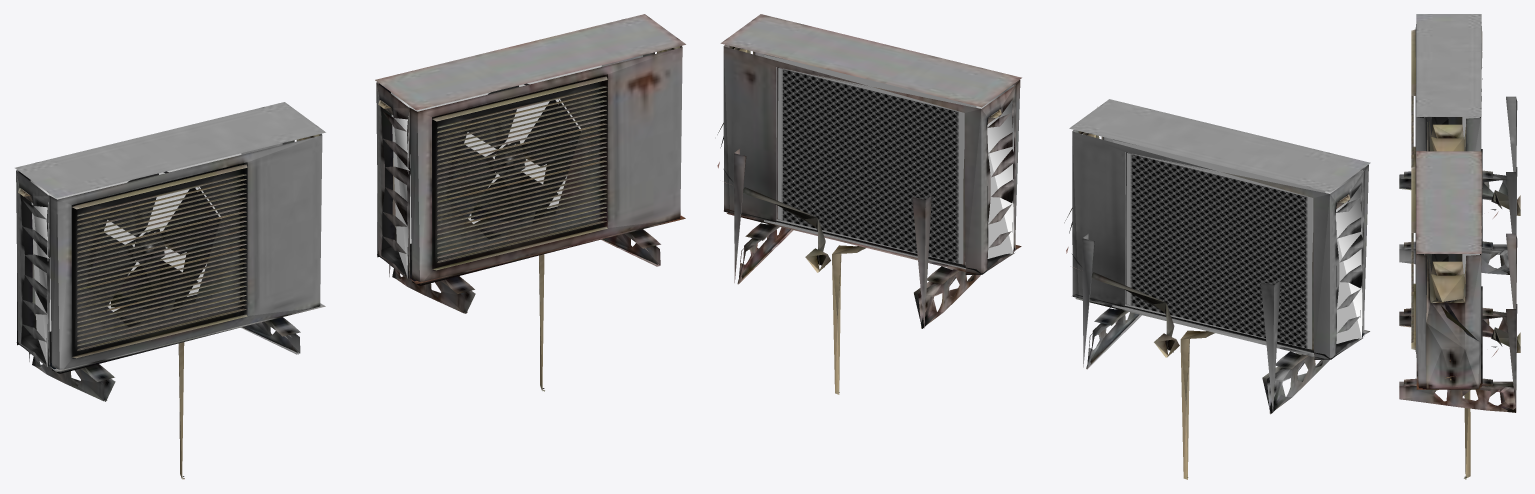
File: exterior_aircon_unit.glb
The picture shows the model from 3 angles, left to right: view 1: azimuth 30°, elevation 25°; view 2: azimuth 150°, elevation 25°; view 3: azimuth 270°, elevation 25°; orthographic projection. The views are drawn at different scales.
Parts seen in each view (by area): view 1: exterior_aircon_unit_rusted, exterior_aircon_unit; view 2: exterior_aircon_unit, exterior_aircon_unit_rusted; view 3: exterior_aircon_unit_rusted, exterior_aircon_unit.
Boxes of the visible parts, x1,y1,x2,y2 form: exterior_aircon_unit_rusted: (375, 14, 685, 391); exterior_aircon_unit: (15, 102, 325, 479); exterior_aircon_unit: (1064, 99, 1370, 479); exterior_aircon_unit_rusted: (717, 14, 1021, 394); exterior_aircon_unit_rusted: (1399, 151, 1520, 479); exterior_aircon_unit: (1399, 14, 1520, 274).
Size of the model in its own units: 1.79 by 0.9134 by 0.3748.
4 materials, 4 textured.
